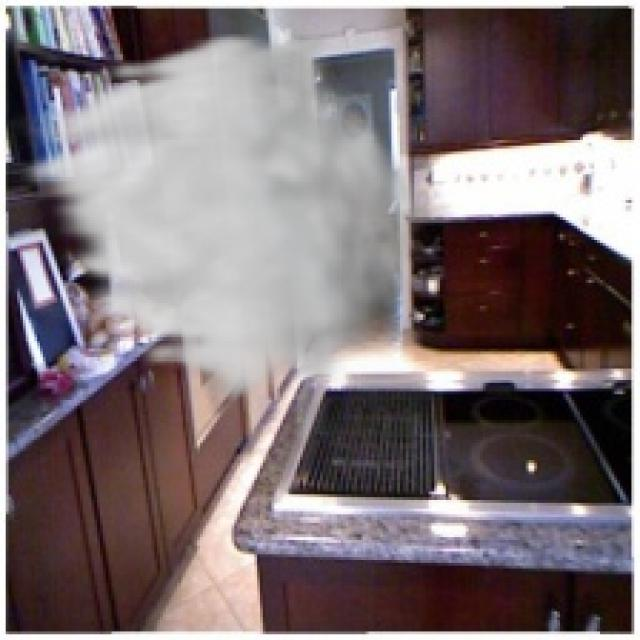smoke: (6, 28, 428, 406)
